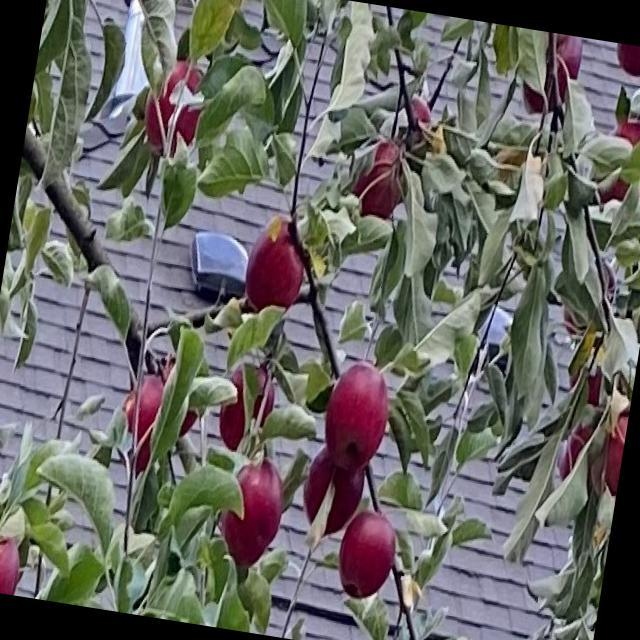100-_ripeness: (318, 360, 392, 473), (216, 458, 289, 570), (242, 212, 312, 316), (139, 60, 207, 161), (298, 442, 369, 538), (212, 358, 280, 456), (333, 510, 400, 602), (114, 369, 170, 469), (519, 30, 584, 114), (348, 138, 409, 222), (560, 260, 618, 340), (593, 117, 639, 214), (558, 417, 604, 484), (598, 412, 628, 498), (396, 96, 434, 148), (0, 529, 24, 594), (612, 43, 639, 80)
